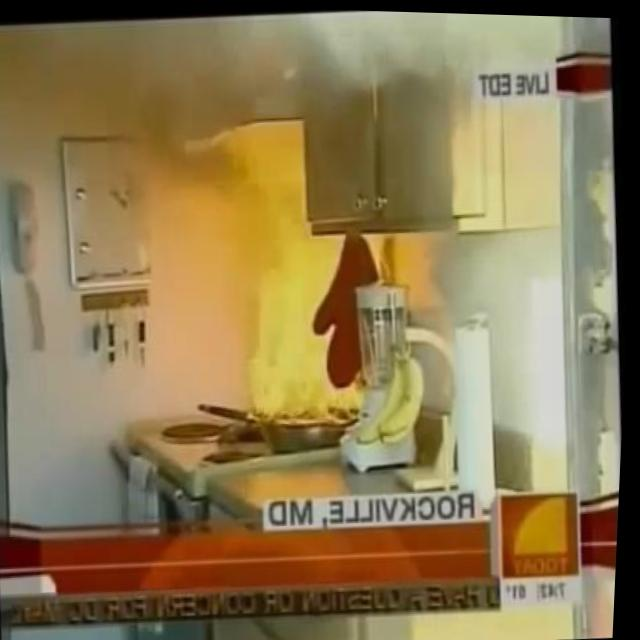fire: (202, 115, 376, 433)
